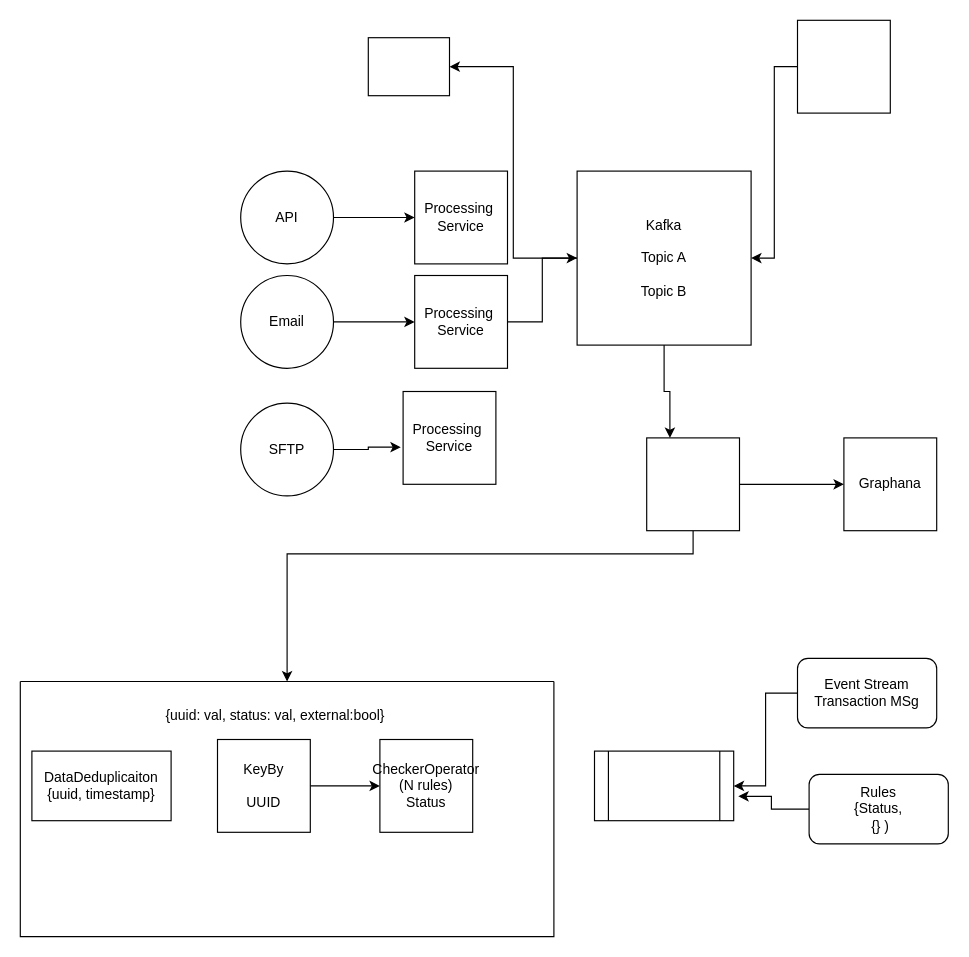
This 969x957 diagram has some shape labels left out. Each missing label, with the centre of its shape:
"Flink" belongs at point (693, 484).
"Operator" belongs at point (663, 785).
"s3" belongs at point (408, 66).
"Zolve Process Datasource DB" belongs at point (843, 66).
